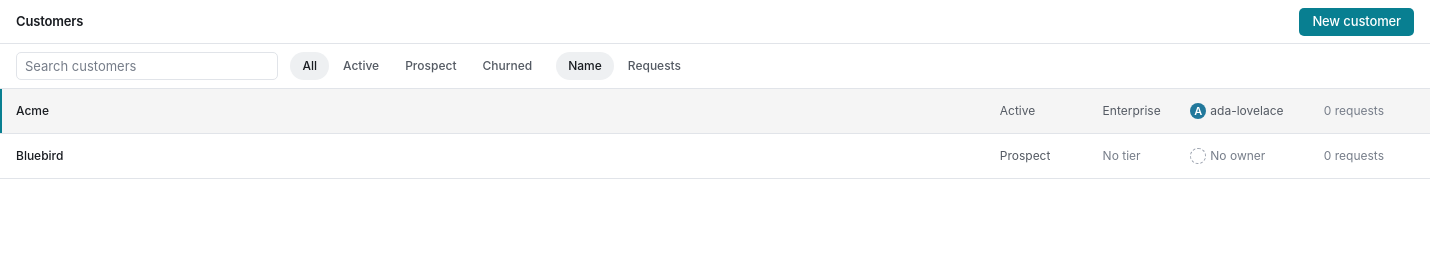
Customers row properties › opens the status picker from the row without opening the customer
The image size is (1440, 258).
Click the button "Active" in the row of "Acme": {"x": 1018, "y": 111} [996, 98, 1039, 124]
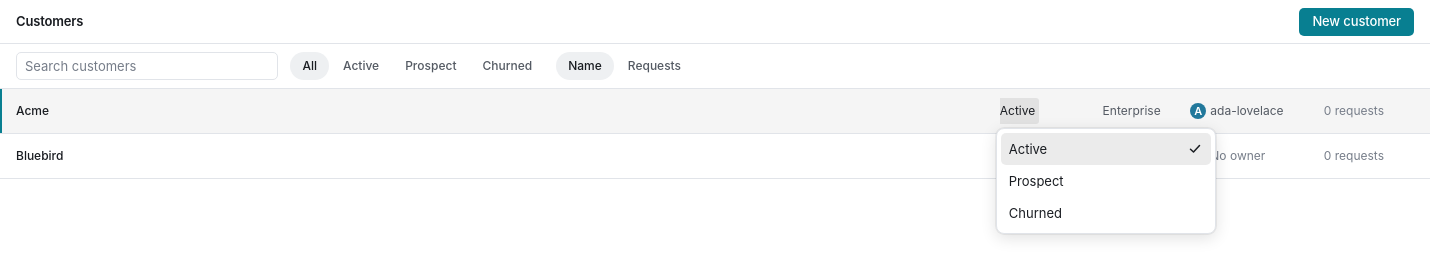
expect the link "Acme Active Enterprise A ada-lovelace 0 requests" is shown: met, box [16, 98, 1384, 124]
expect the menu named "Customer status" is shown: met, box [1001, 133, 1211, 229]
